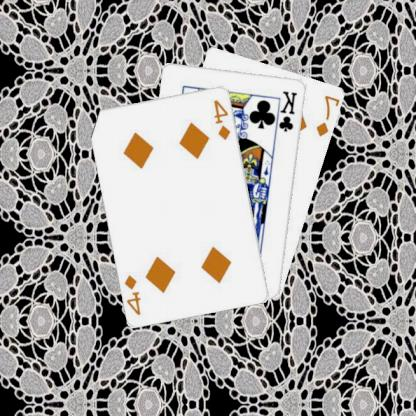4D: (213, 97, 234, 141), (124, 272, 145, 316)
7D: (316, 92, 342, 138)
KC: (274, 88, 300, 136)
